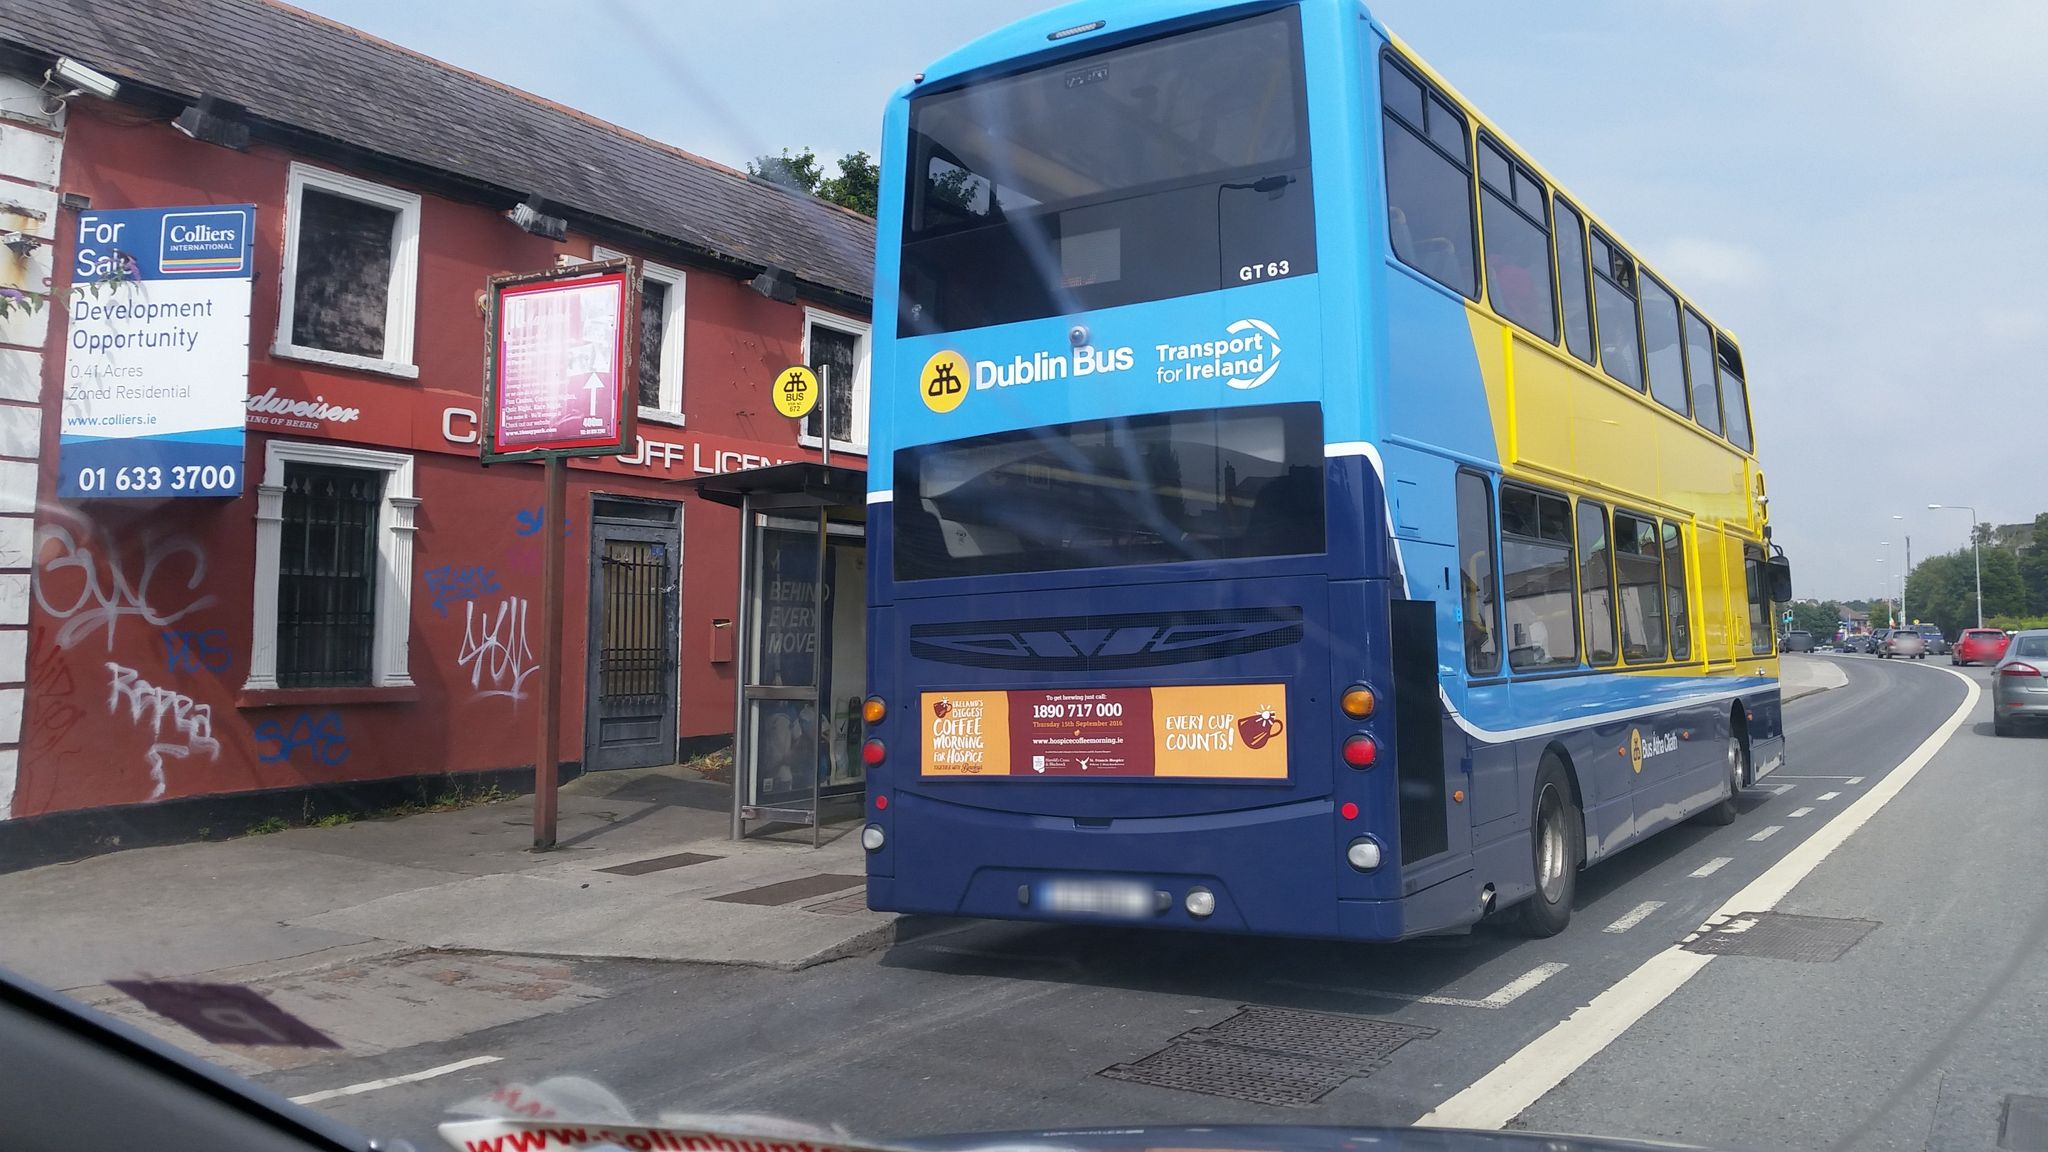property sign: (46, 186, 276, 525)
